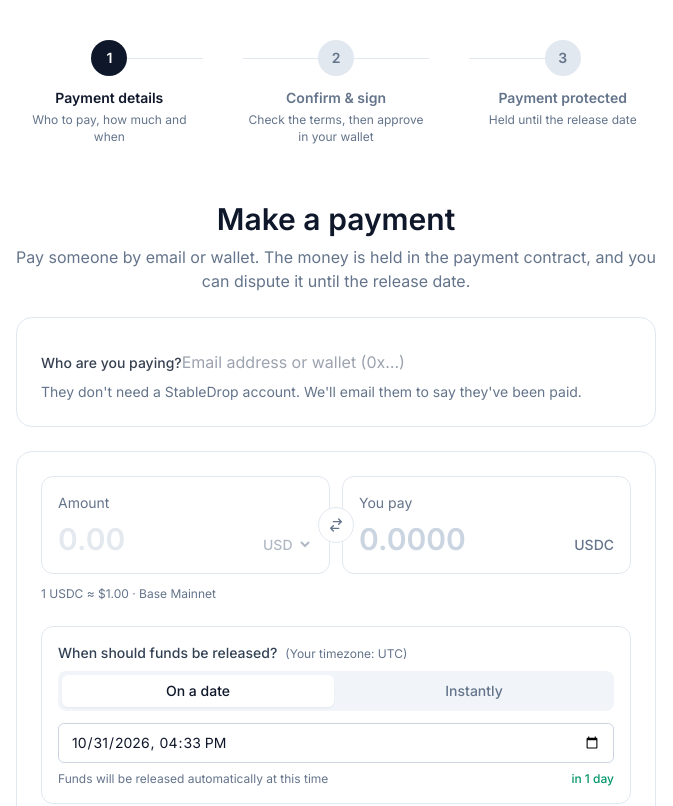
it: /pay › switching back from instant keeps the date that was picked
Click the radio button labelled "Instantly".
click(474, 691)  # box left=338, top=675, right=610, bottom=707
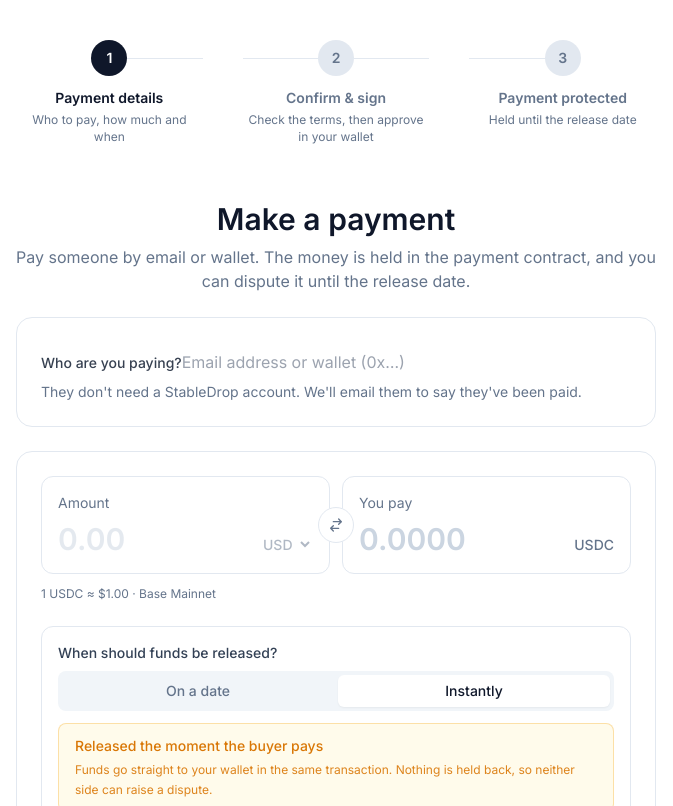
Click the radio button labelled "On a date".
click(198, 691)  # box left=62, top=675, right=334, bottom=707
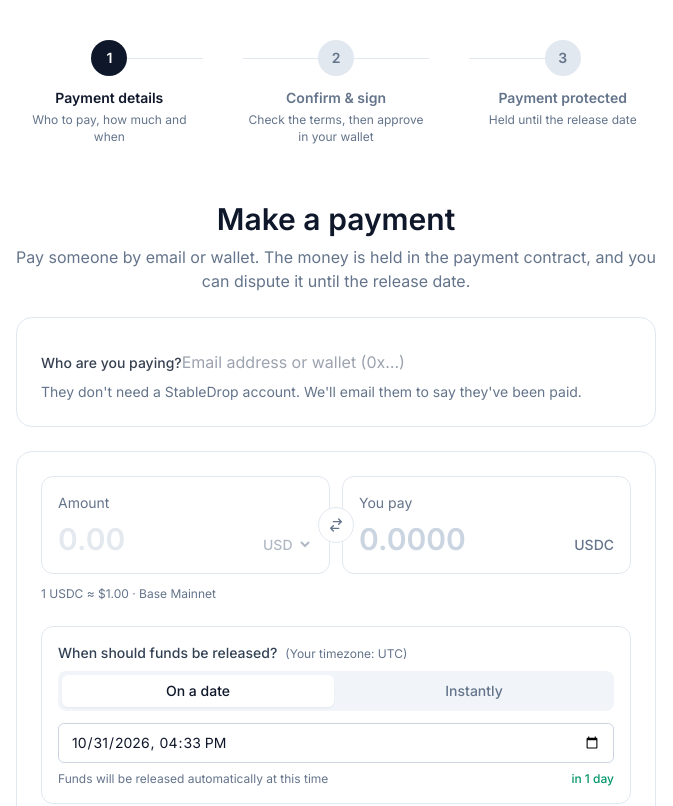
Type "seller@example.com" into the field with placeholder "Email address or wallet (0x…)".
click(299, 362); type("seller@example.com")  # box left=182, top=350, right=416, bottom=374
(page scrolled)
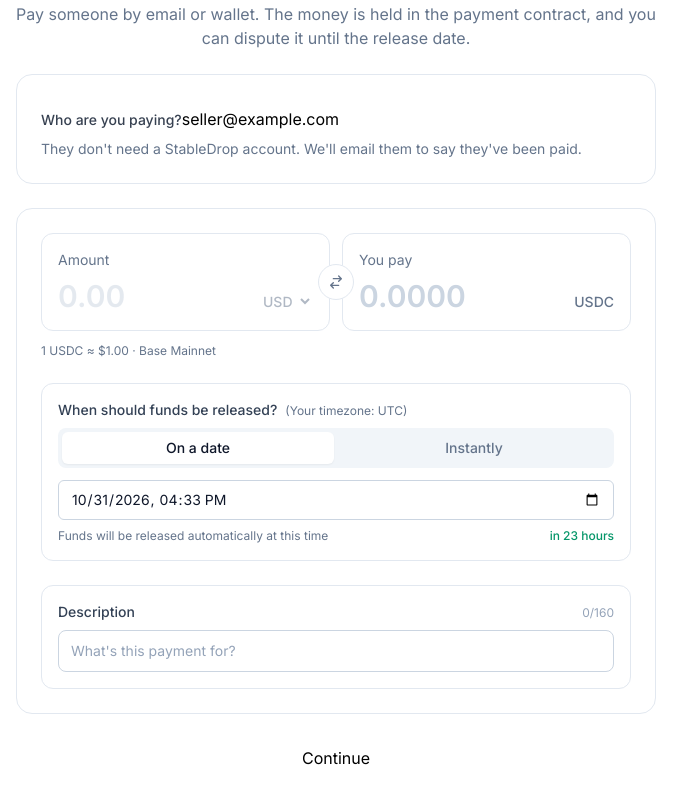
Type "Logo design" into the field with placeholder "What's this payment for?".
click(336, 651); type("Logo design")  # box left=58, top=630, right=614, bottom=672
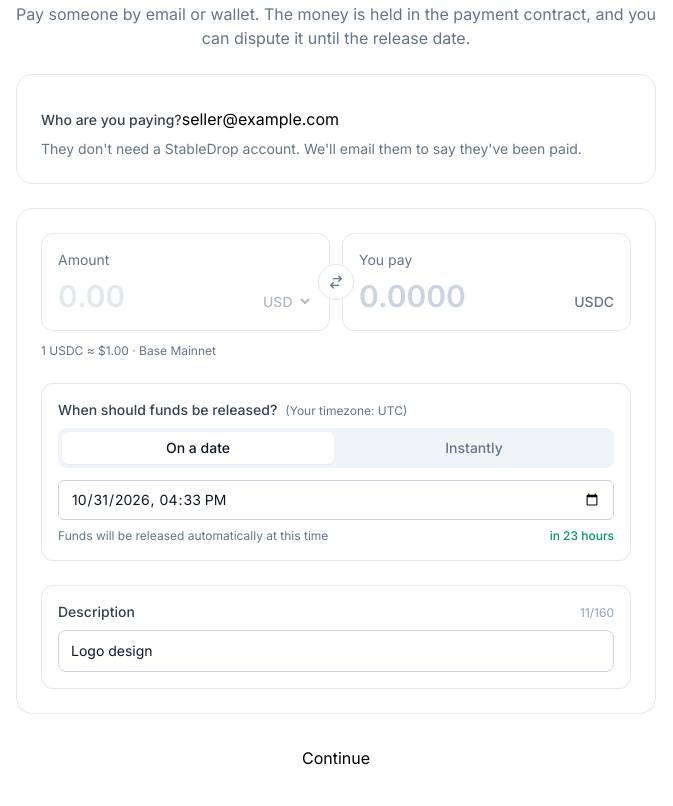
Type "10" into the number field with placeholder "0.0000".
click(463, 296); type("10")  # box left=359, top=278, right=566, bottom=314
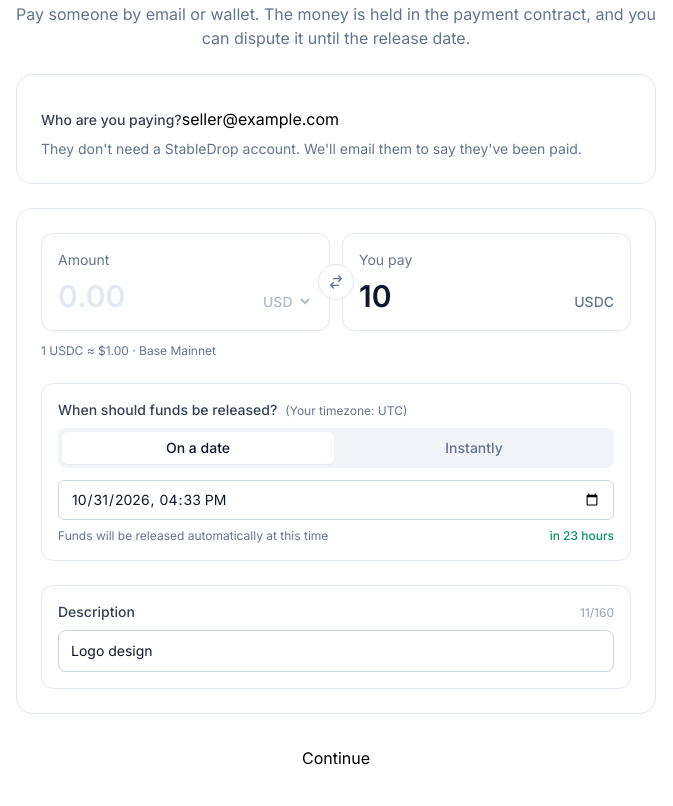
Click the button "Continue".
click(336, 758)  # box left=302, top=746, right=370, bottom=770
(page scrolled)
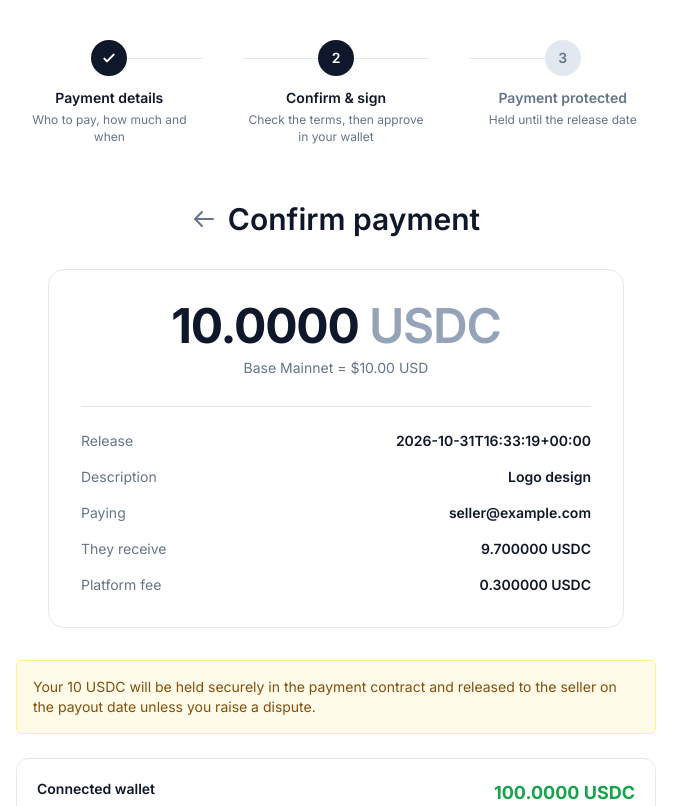
Result: the heading "Confirm payment" is shown at left=228, top=201, right=480, bottom=237
